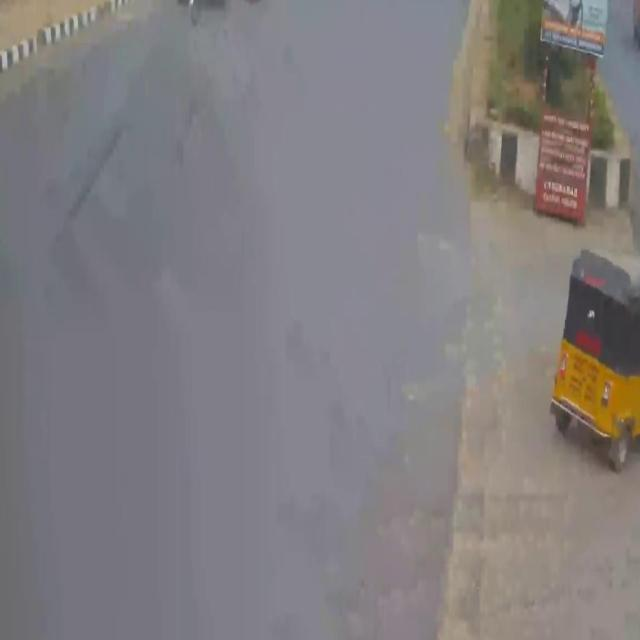accident: (170, 0, 274, 30)
